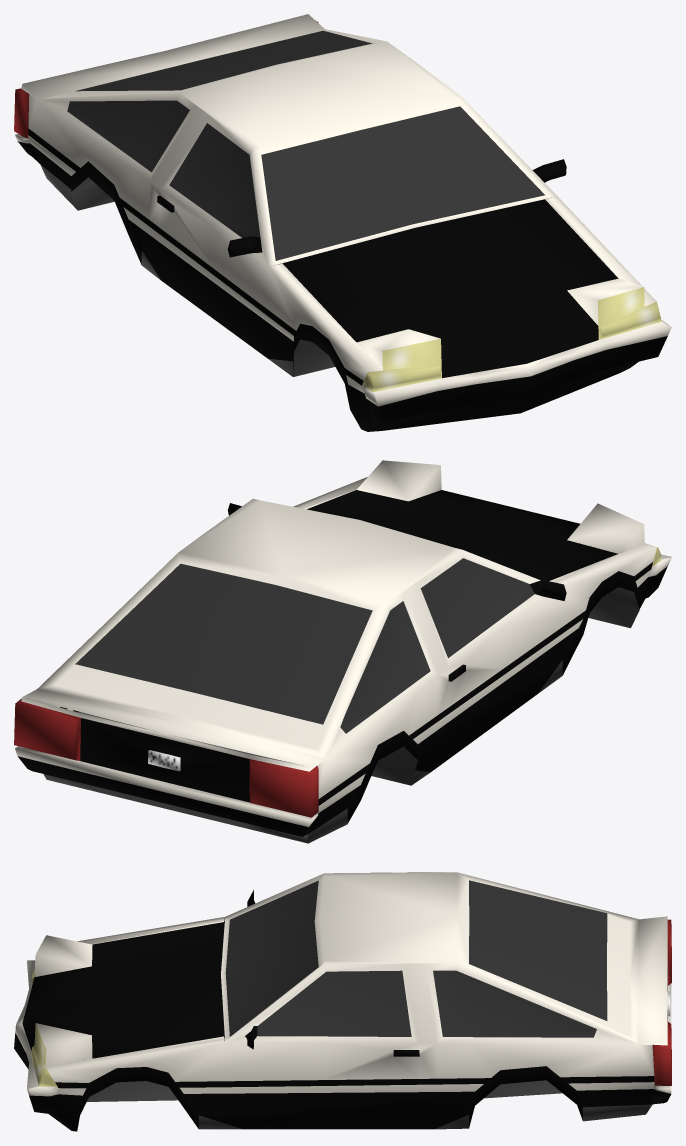
Rendered from Toyota ae86 new.fbx.
3 views of the same model, one above another, from view 1: azimuth 30°, elevation 25°; view 2: azimuth 150°, elevation 25°; view 3: azimuth 270°, elevation 25° (orthographic). The views are drawn at different scales.
Visible parts, largest first — view 1: ae86 mesh; view 2: ae86 mesh; view 3: ae86 mesh.
Part boxes in pixels (x1,y1,x2,y2): ae86 mesh: [14, 14, 671, 431]; ae86 mesh: [14, 460, 671, 843]; ae86 mesh: [14, 872, 671, 1131].
Size of the model in its own units: 3.32 by 1.66 by 6.25.
